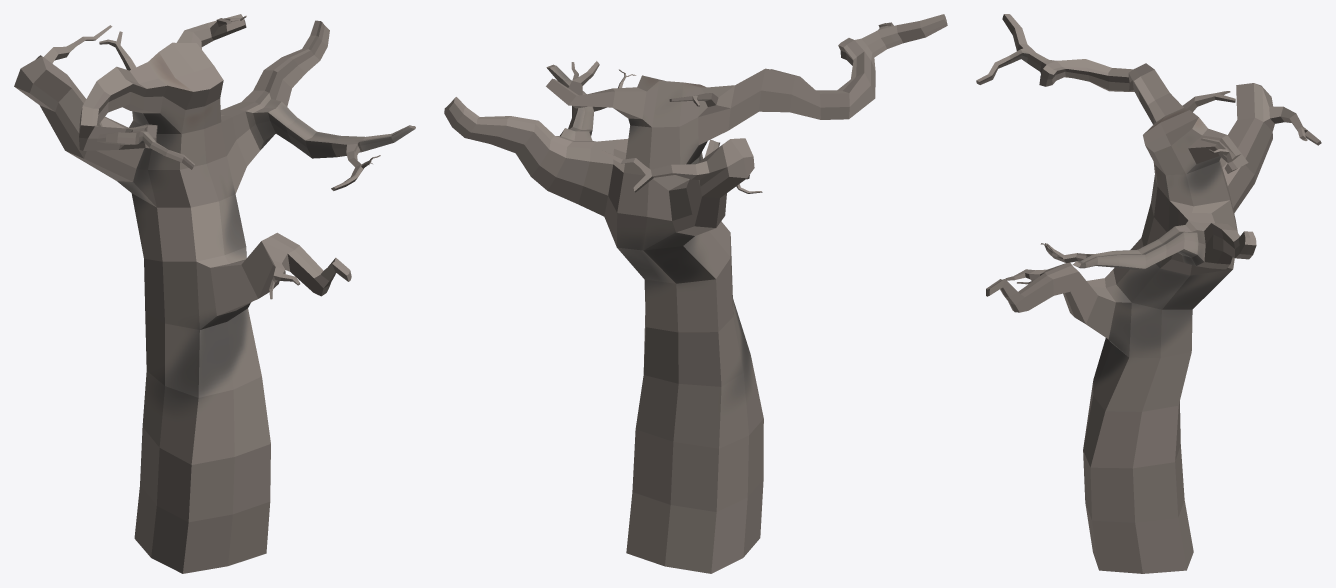
File: BirchTree.fbx
The picture shows the model from 3 angles, left to right: view 1: azimuth 30°, elevation 25°; view 2: azimuth 150°, elevation 25°; view 3: azimuth 270°, elevation 25°; orthographic projection. The views are drawn at different scales.
Parts seen in each view (by area): view 1: Cube; view 2: Cube; view 3: Cube.
Boxes of the visible parts, <box> form: Cube: <box>14,14,415,573</box>; Cube: <box>444,14,947,573</box>; Cube: <box>976,14,1321,573</box>.
Size of the model in its own units: 867 by 1163 by 787.
